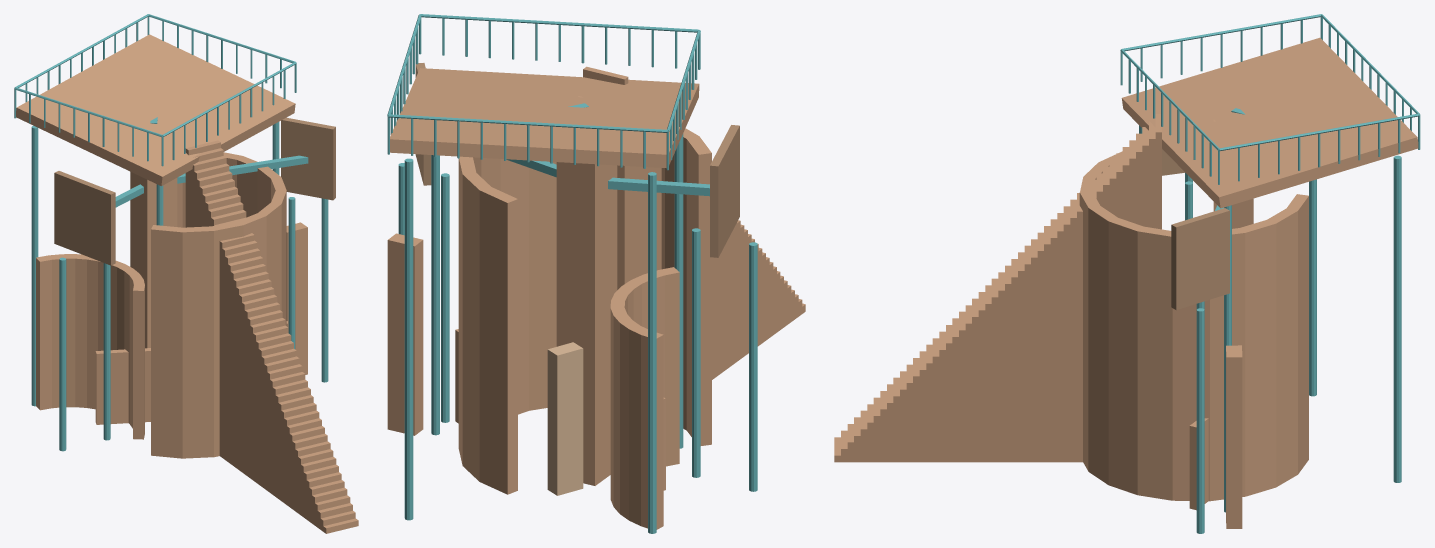
Rendered from folie_tag_051.glb.
The picture shows the model from 3 angles, left to right: view 1: azimuth 30°, elevation 25°; view 2: azimuth 150°, elevation 25°; view 3: azimuth 270°, elevation 25°; orthographic projection. The views are drawn at different scales.
Visible parts, largest first — view 1: folie_tag_051_stairs, folie_tag_051_01_curve, folie_tag_051_00_plate, folie_tag_051_line, folie_tag_051_02_curve, folie_tag_051_03_panel, folie_tag_051_06_panel, folie_tag_051_core, folie_tag_051_08_panel, folie_tag_051_04_fin; view 2: folie_tag_051_01_curve, folie_tag_051_line, folie_tag_051_00_plate, folie_tag_051_core, folie_tag_051_02_curve, folie_tag_051_stairs, folie_tag_051_04_fin, folie_tag_051_07_fin, folie_tag_051_03_panel; view 3: folie_tag_051_01_curve, folie_tag_051_stairs, folie_tag_051_00_plate, folie_tag_051_line, folie_tag_051_06_panel, folie_tag_051_04_fin, folie_tag_051_05_panel.
Part boxes in pixels (x1,y1,x2,y2): folie_tag_051_stairs: (185,140,358,533); folie_tag_051_01_curve: (151,152,286,458); folie_tag_051_00_plate: (16,34,295,186); folie_tag_051_line: (14,14,328,451); folie_tag_051_02_curve: (36,254,144,439); folie_tag_051_03_panel: (54,171,115,265); folie_tag_051_06_panel: (281,117,335,200); folie_tag_051_core: (130,172,177,348); folie_tag_051_08_panel: (95,348,150,424); folie_tag_051_04_fin: (286,222,307,374); folie_tag_051_01_curve: (458,128,711,494); folie_tag_051_line: (387,14,757,533); folie_tag_051_00_plate: (390,68,699,168); folie_tag_051_core: (556,96,617,485); folie_tag_051_02_curve: (610,267,679,529); folie_tag_051_stairs: (583,66,805,379); folie_tag_051_04_fin: (387,233,423,435); folie_tag_051_07_fin: (547,342,583,495); folie_tag_051_03_panel: (710,125,739,257); folie_tag_051_01_curve: (1079,151,1308,501); folie_tag_051_stairs: (834,114,1161,462); folie_tag_051_00_plate: (1121,37,1418,208); folie_tag_051_line: (1120,14,1420,533); folie_tag_051_06_panel: (1171,208,1229,309); folie_tag_051_04_fin: (1226,345,1242,528); folie_tag_051_05_panel: (1189,418,1208,510).
Bounding box in the file's own units: 10.09 × 11.26 × 16.1.
